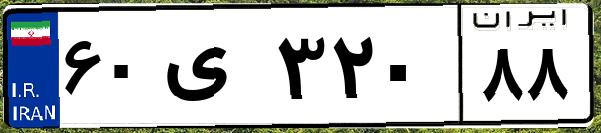0: (385, 28, 445, 110), (110, 28, 158, 98)
2: (330, 28, 385, 110)
3: (270, 28, 330, 110)
6: (57, 26, 110, 100)
8: (475, 38, 525, 113), (525, 38, 570, 115)
ی: (158, 20, 270, 120)
